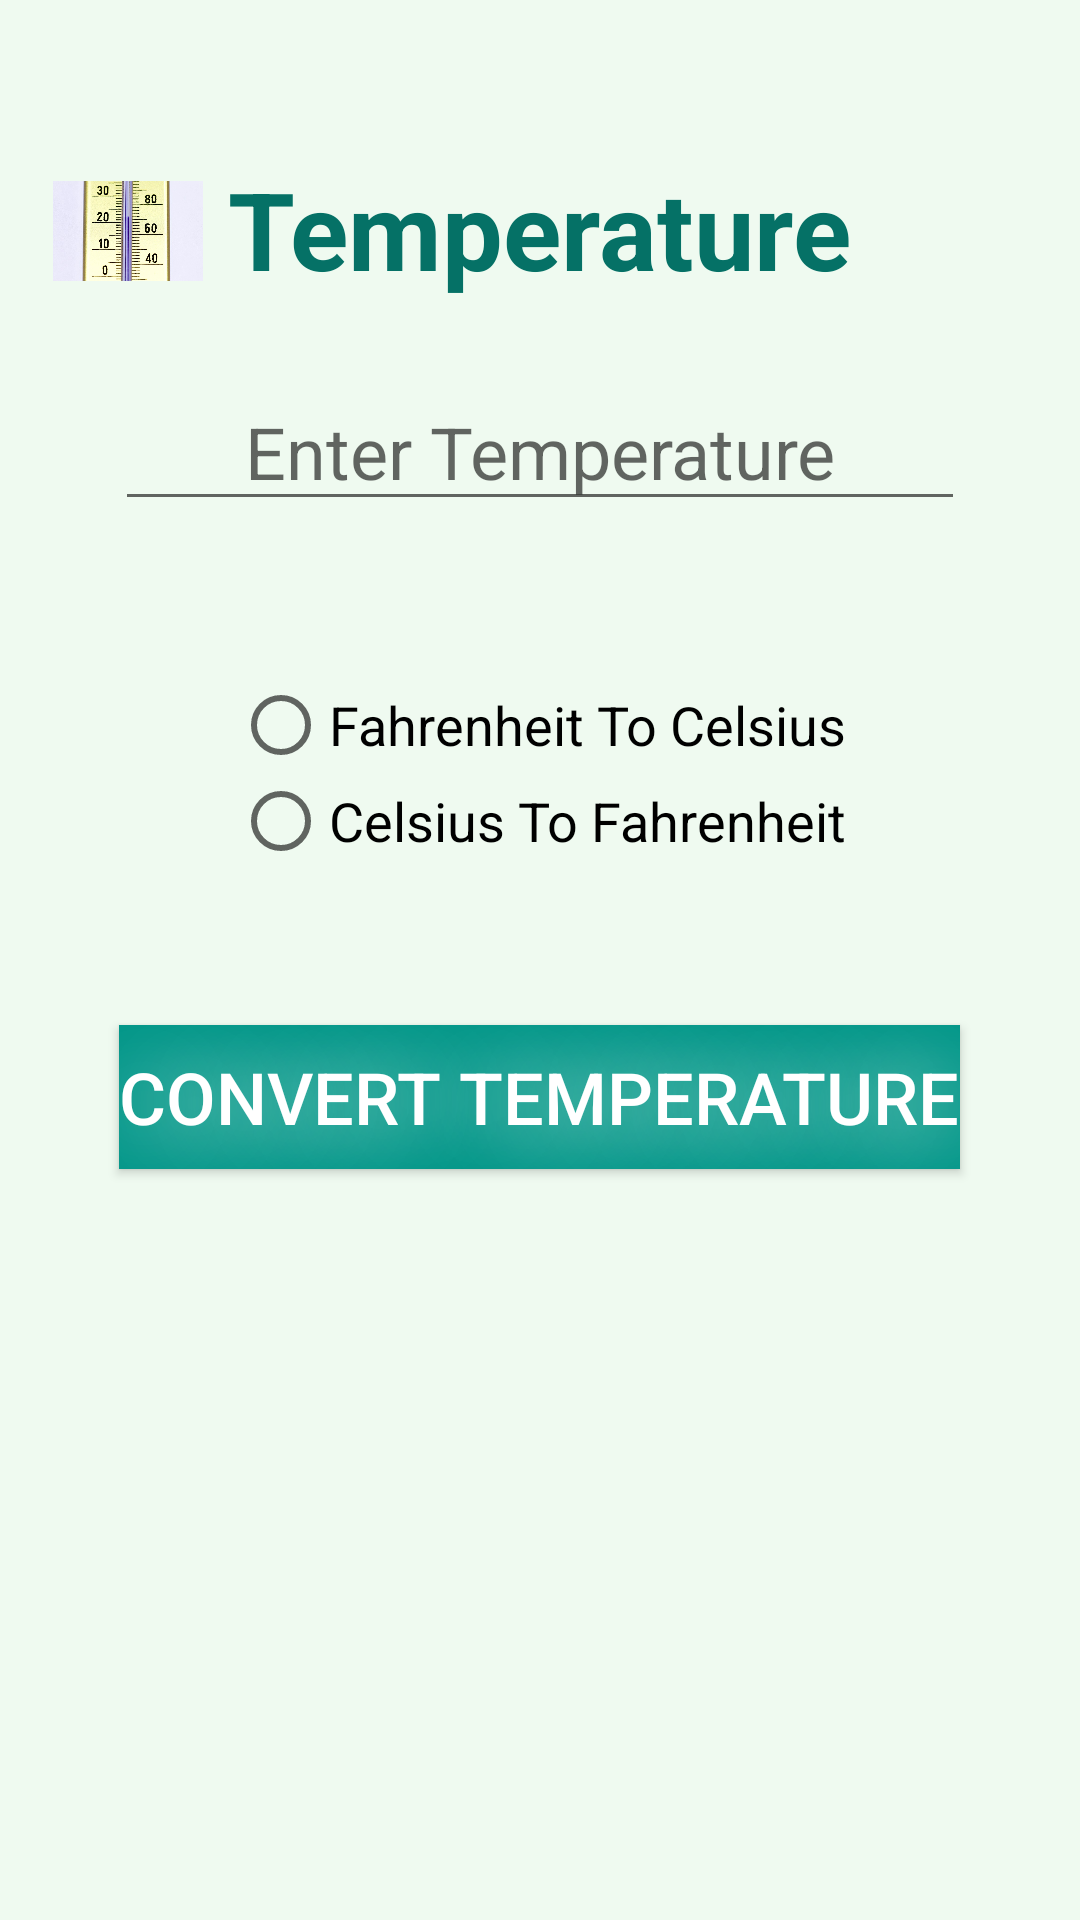

Named icons in this screenshot (1080 × 1920) and their centers, [x,y]:
Thermometer Image: [114,231]
